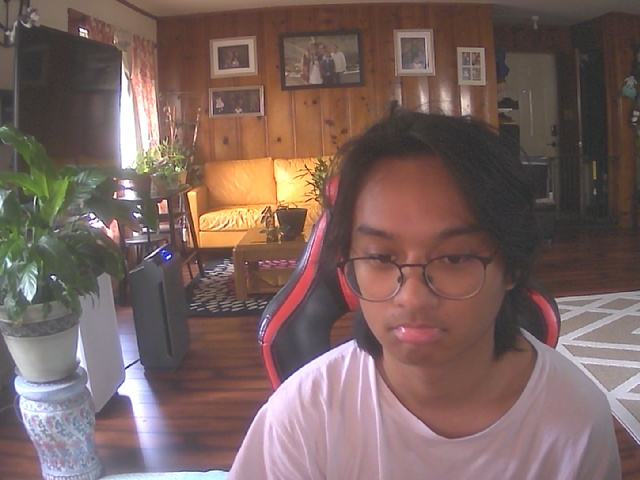sad: (328, 132, 528, 371)
